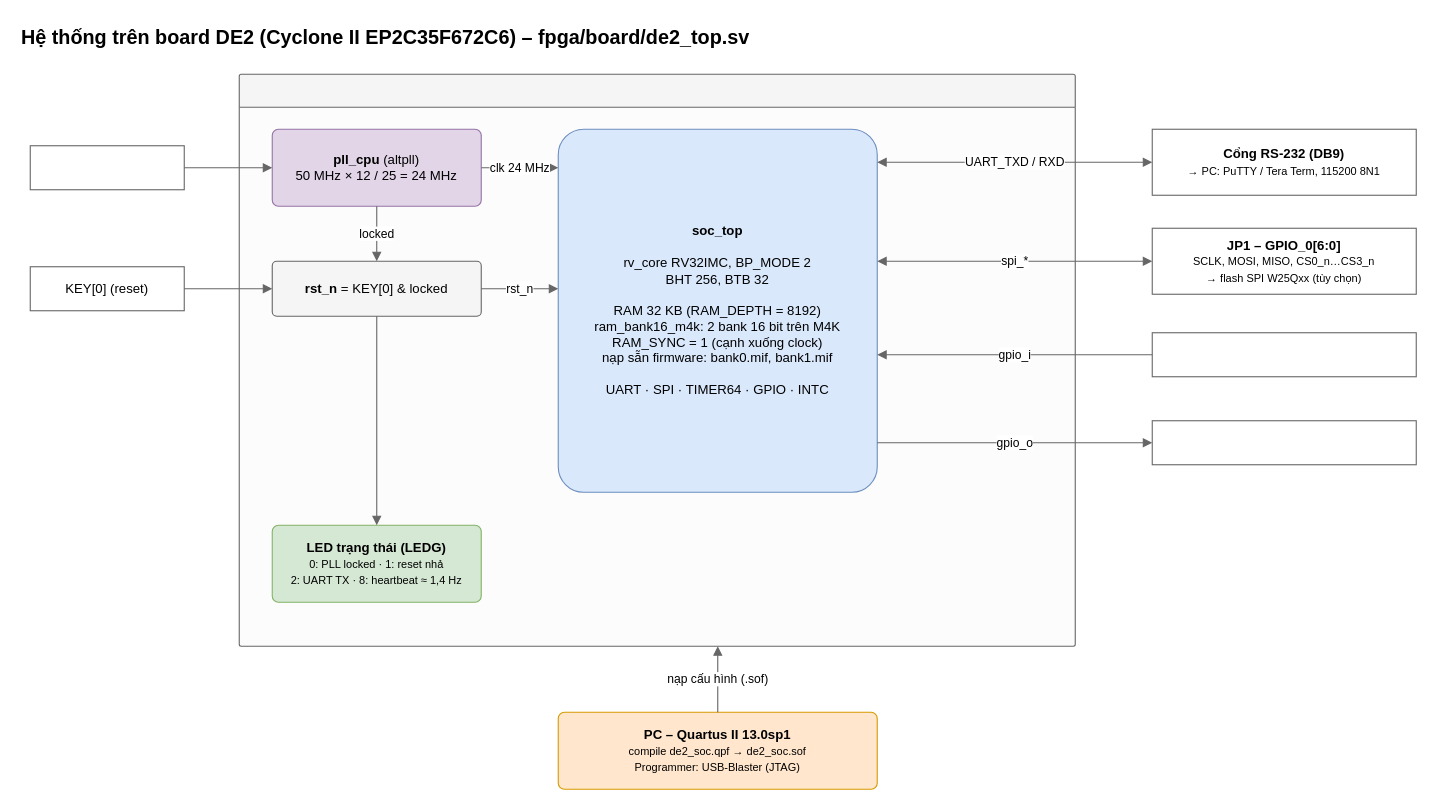
The diagram is 1436 pixels wide and 809 high, and some of its shapes have lost their labels. The shapes that lost their labels are listed below. From the top down, each one's box as (x1, y1, x2, y2) in pixels, then its label:
(29, 145, 184, 190): CLOCK_50
(238, 73, 1075, 646): de2_top (Quartus II 13.0sp1)
(1151, 332, 1416, 377): SW[15:0] → gpio_i
(1151, 420, 1416, 465): LEDR[15:0] ← gpio_o & gpio_oe
